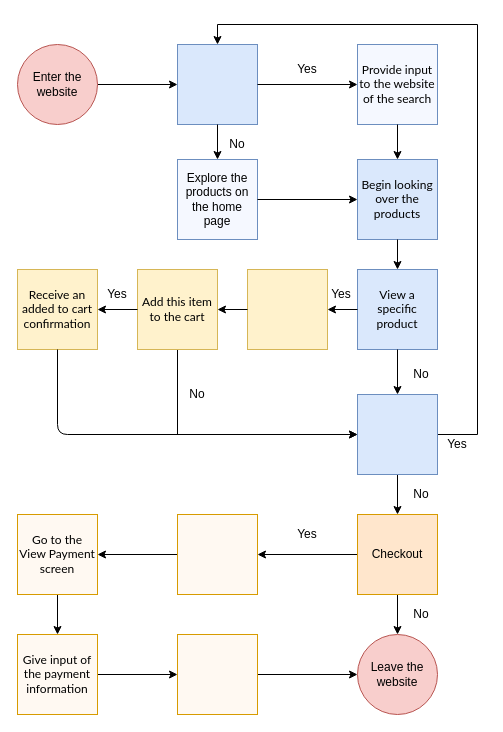
The diagram is 503 pixels wide and 732 high, and some of its shapes have lost their labels. The centre of each missing label's shape, as x and y in pixels:
Continue shopping: [397,434]
Open product's webpage: [287,309]
Reach the View Cart screen: [217,554]
Search for a product: [217,84]
See an order confirmation screen & Receive an email: [217,674]
